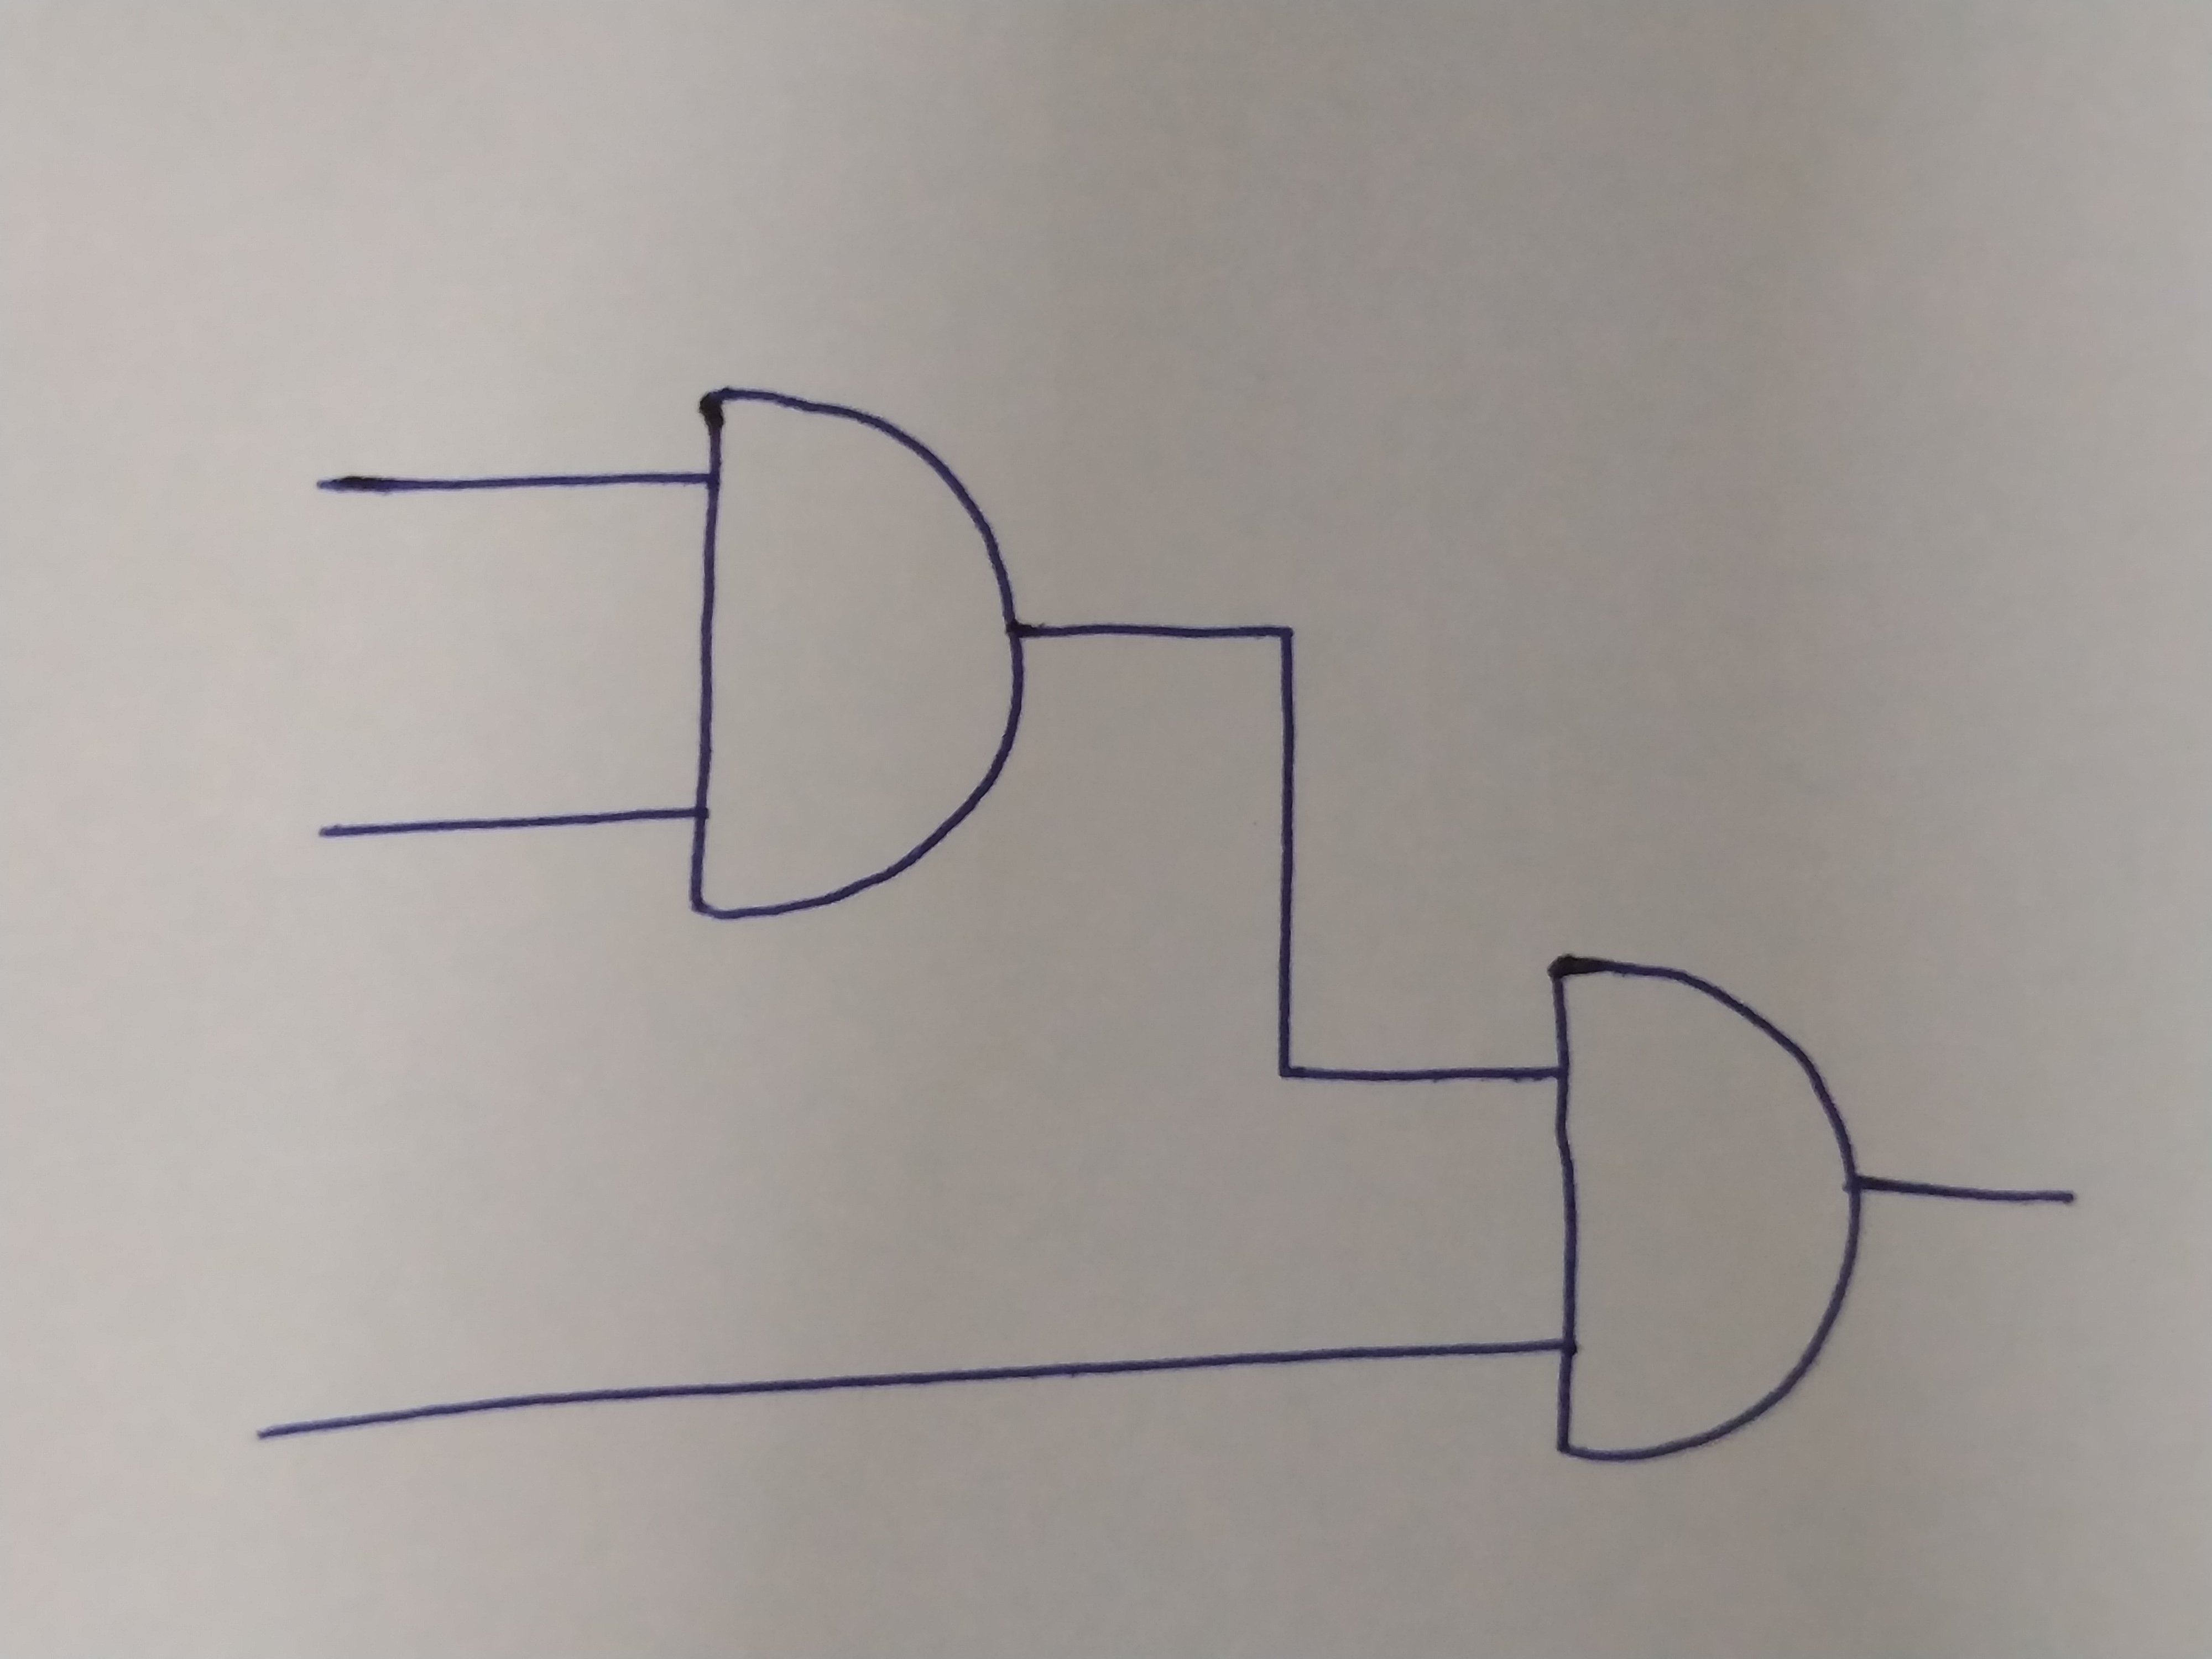and: (695, 380, 1015, 936), (1541, 951, 1865, 1455)
